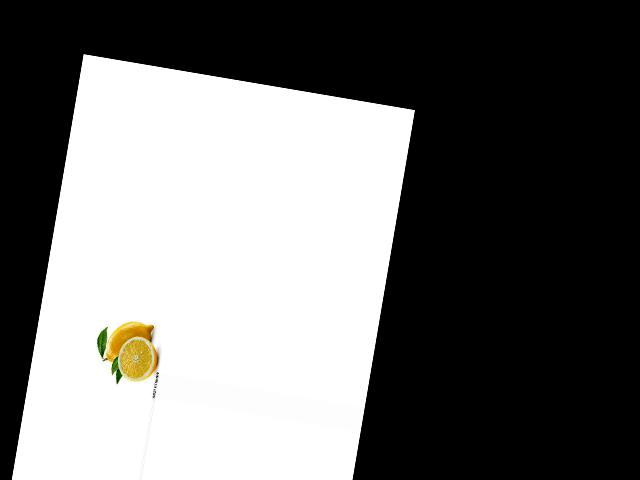lemon: (101, 309, 157, 371)
